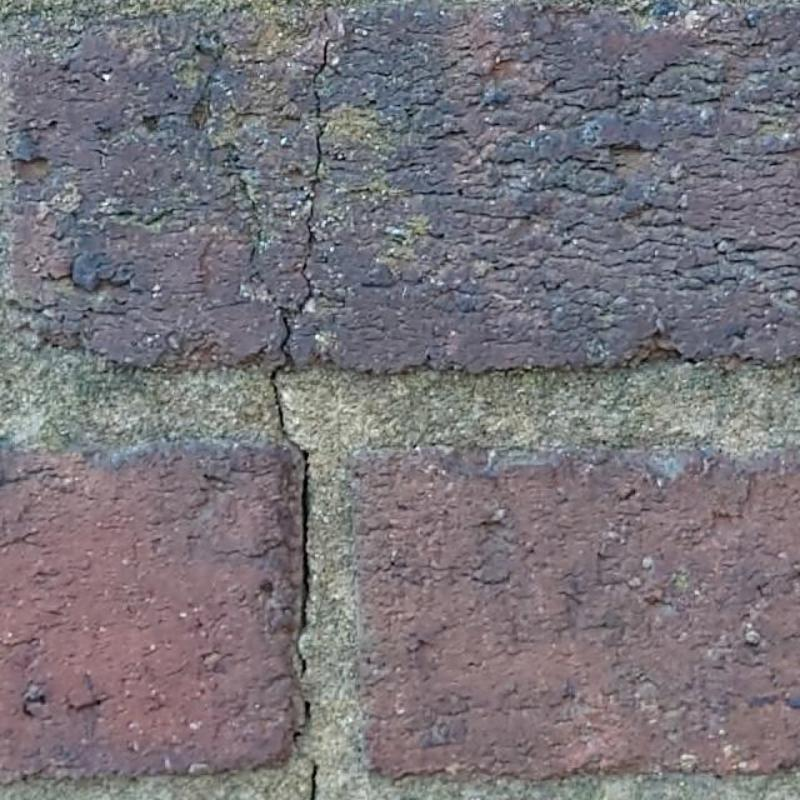pothole: (280, 36, 327, 366), (273, 373, 311, 762), (309, 758, 320, 799)
